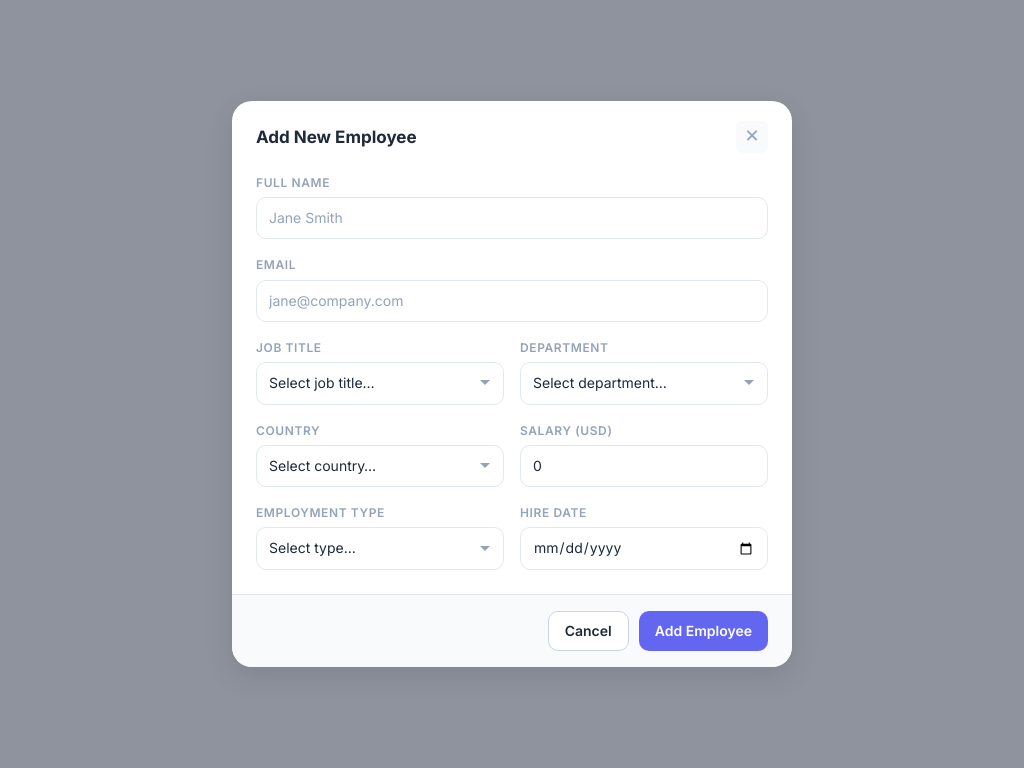
it: submit_with_invalid_email_shows_error
The image size is (1024, 768).
Type "notvalid" into the field labelled "Email" at [512, 301], box [256,280,768,322]
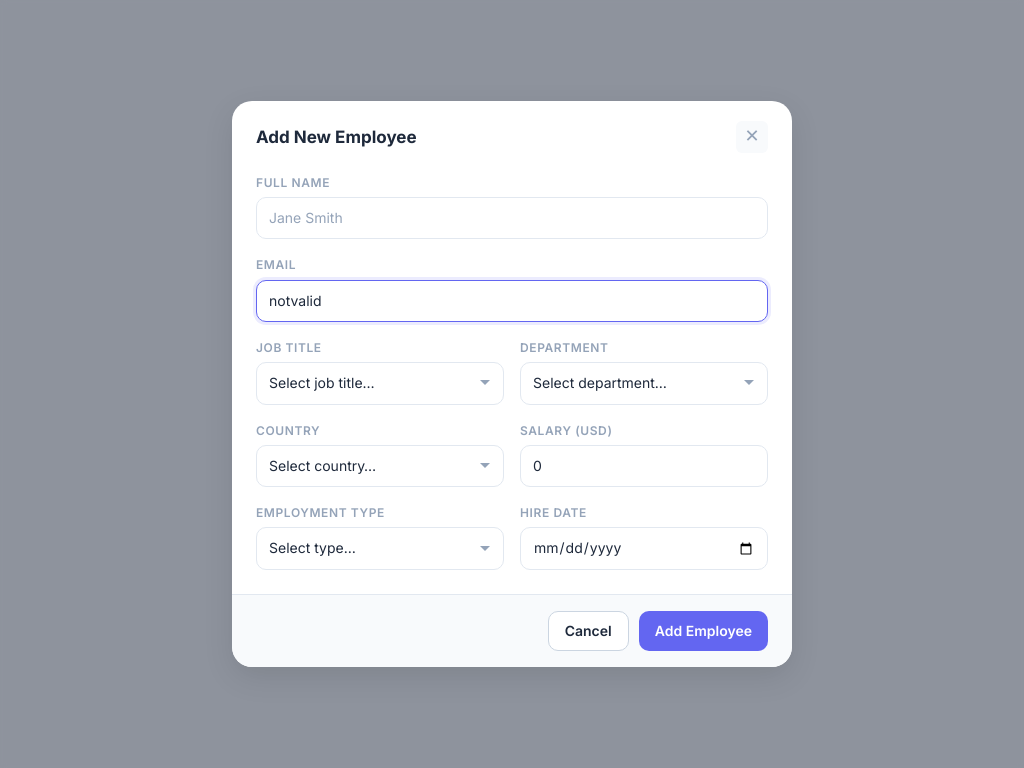
Click the button "Add Employee" at [703, 631], box [639,611,768,651]
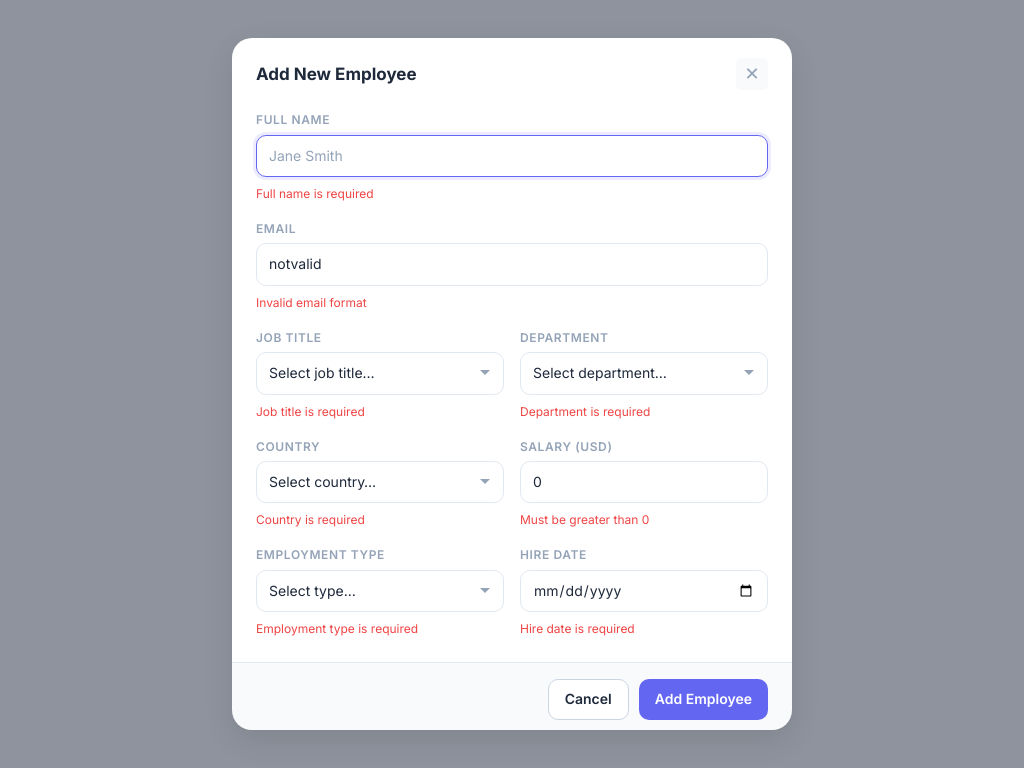
Check: the text "Invalid email format" is shown, box [256,295,367,310]
